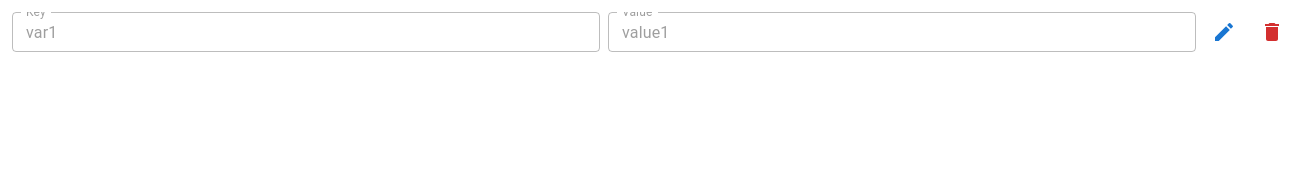
Scenario: VariableInput Component › saves the updated variable when the Save button is clicked
The image size is (1304, 172).
Click the button named "variable-change" at {"x": 1224, "y": 32}, box [1204,12,1244,52]
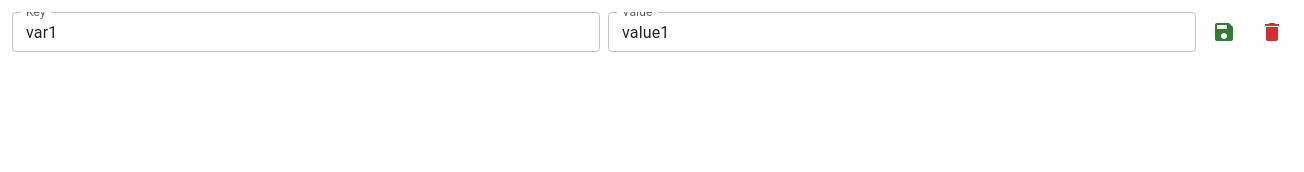
Replace the text in the field labelled "Key" with "updatedKey" at {"x": 306, "y": 32}, box [12,12,600,52]
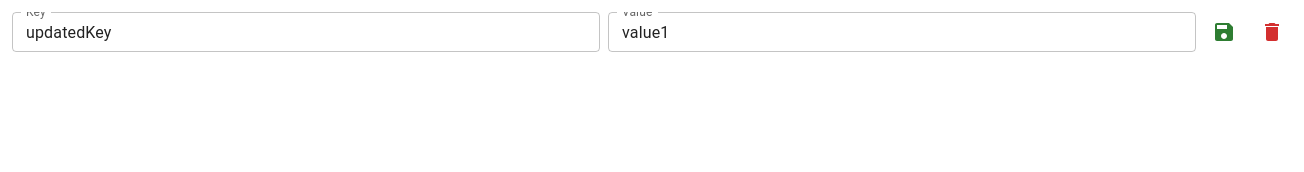
Replace the text in the field labelled "Value" with "updatedValue" at {"x": 902, "y": 32}, box [608,12,1196,52]
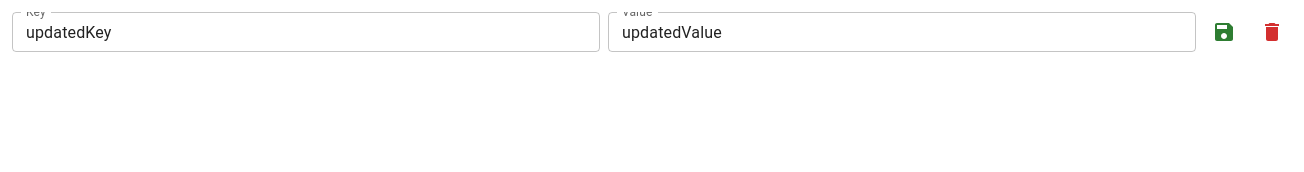
Click the button named "variable-save" at {"x": 1224, "y": 32}, box [1204,12,1244,52]
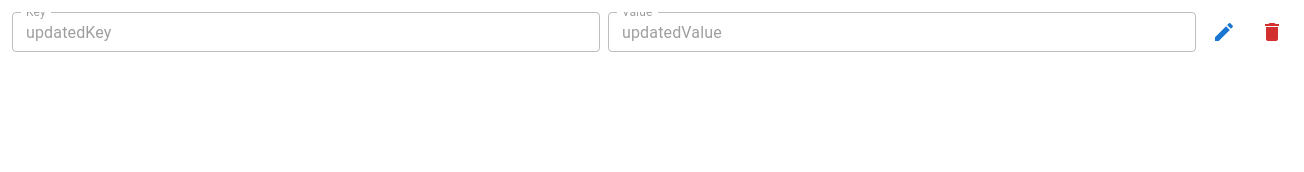
Check: the field labelled "Key" is disabled, box [12,12,600,52]
Check: the field labelled "Value" is disabled, box [608,12,1196,52]
